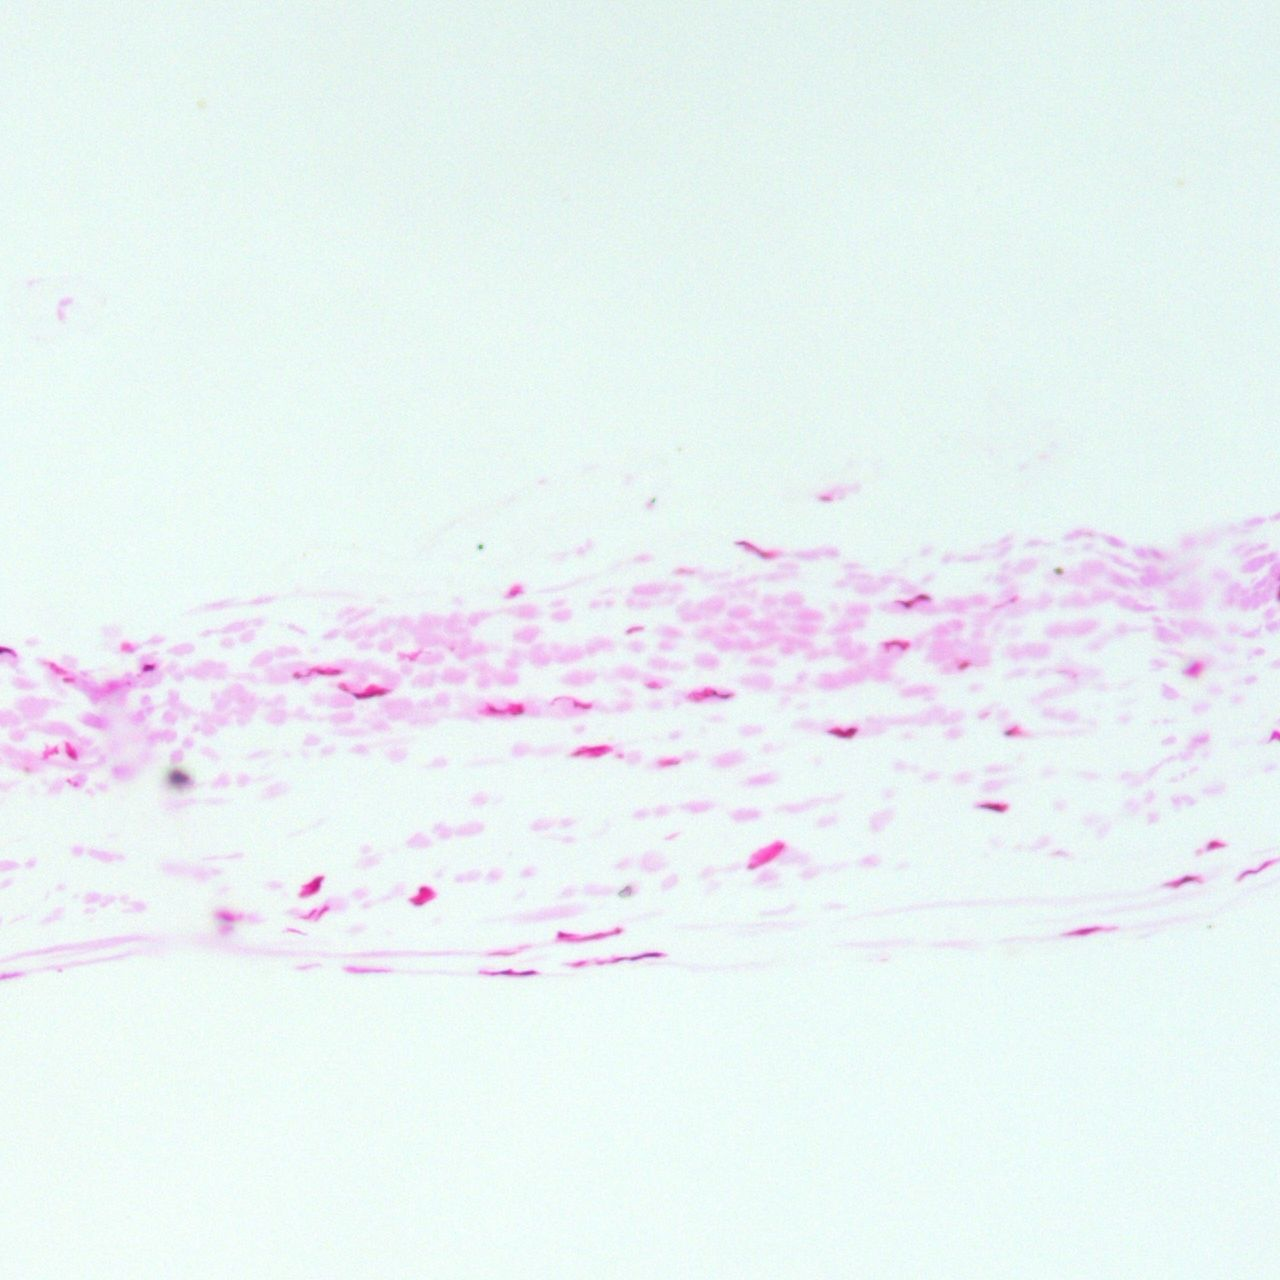dust: (166, 770, 193, 789), (615, 885, 632, 898), (1053, 566, 1064, 576), (476, 542, 485, 549)
nucleus-FG: (593, 950, 668, 965), (568, 926, 624, 944), (733, 538, 777, 560), (1237, 859, 1274, 881), (299, 872, 327, 900), (475, 968, 543, 977), (1164, 872, 1199, 889), (898, 592, 931, 610), (1063, 925, 1105, 938), (572, 743, 610, 756), (693, 688, 732, 699), (353, 688, 388, 700), (62, 741, 80, 762), (827, 727, 860, 738), (343, 967, 393, 974), (883, 640, 910, 652), (977, 803, 1010, 812), (1205, 839, 1227, 851), (316, 668, 344, 677), (625, 623, 645, 635), (315, 903, 329, 920), (284, 927, 309, 936), (481, 705, 505, 714), (659, 758, 680, 768), (571, 700, 593, 709), (301, 909, 317, 921), (555, 930, 574, 939), (1002, 726, 1019, 736), (510, 704, 525, 715), (569, 960, 589, 968), (141, 663, 155, 671), (956, 662, 970, 670), (62, 677, 76, 683), (413, 900, 426, 906), (416, 886, 428, 892)
